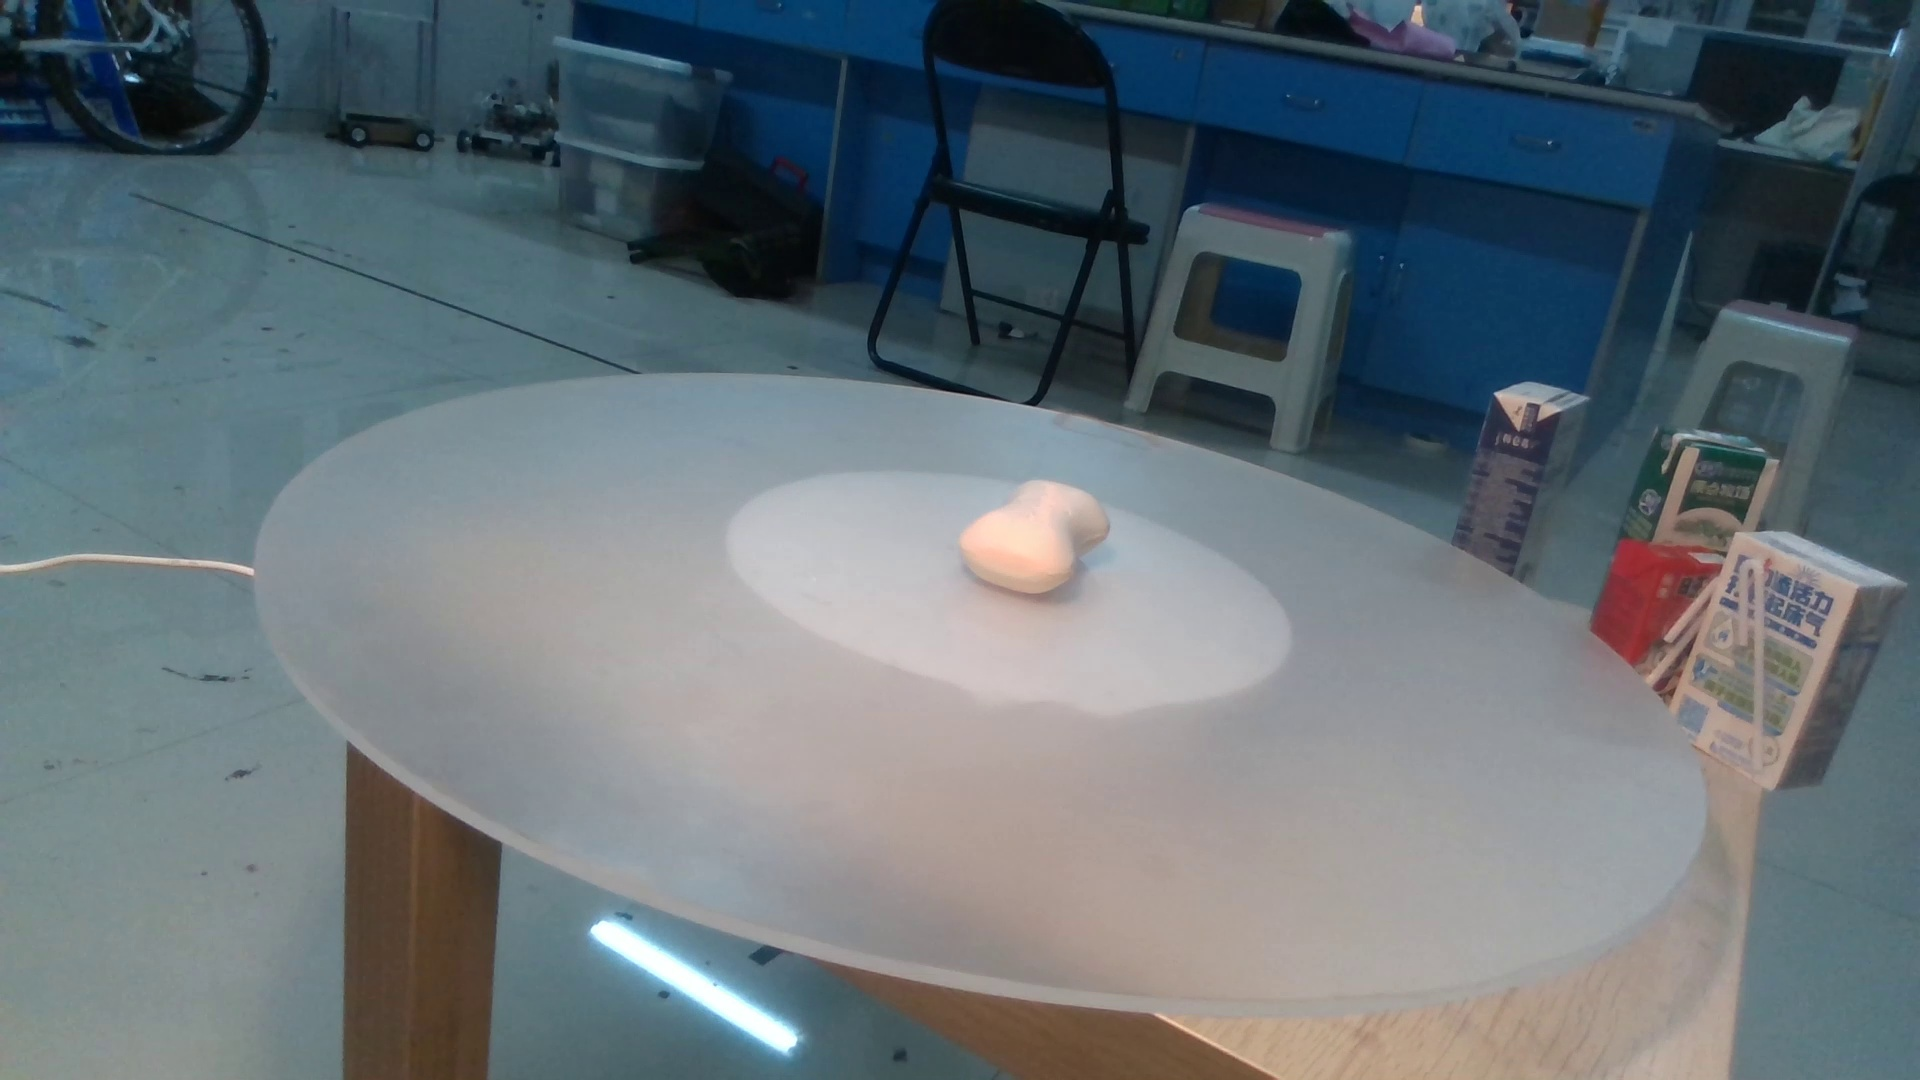CA003_1: (927, 465, 1166, 603)
